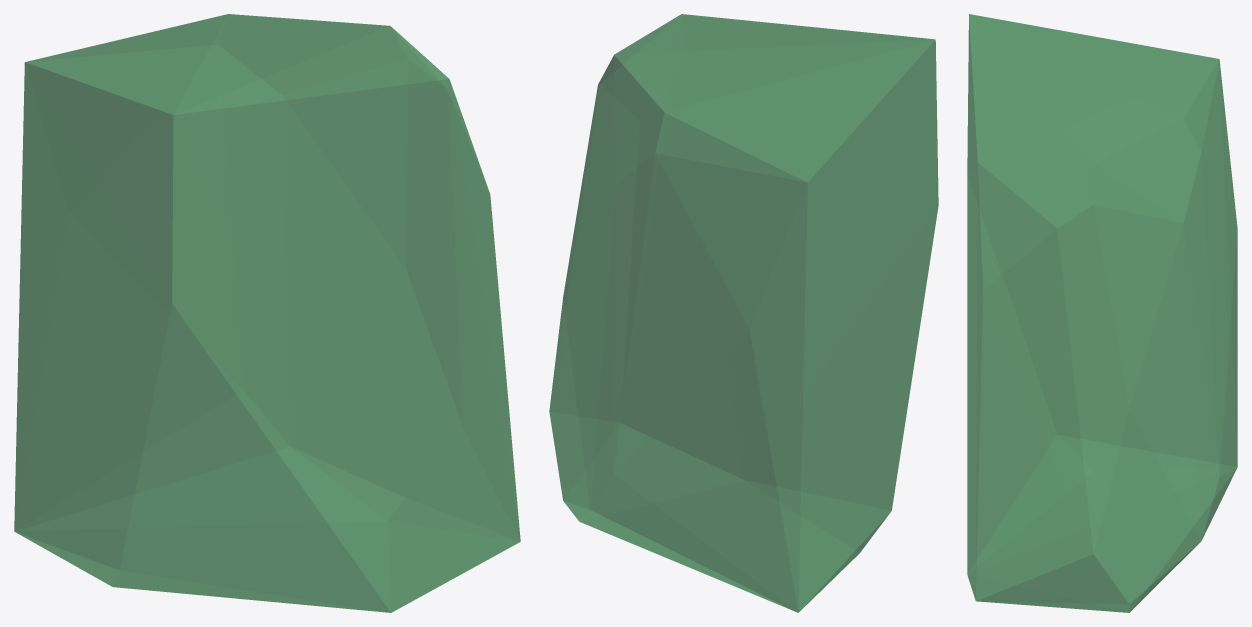
3 renders of one model, left to right at view 1: azimuth 30°, elevation 25°; view 2: azimuth 150°, elevation 25°; view 3: azimuth 270°, elevation 25°, orthographic. The views are drawn at different scales.
Parts seen in each view (by area): view 1: Shape_IndexedFaceSet.008_Shape_IndexedFaceSet.17692; view 2: Shape_IndexedFaceSet.008_Shape_IndexedFaceSet.17692; view 3: Shape_IndexedFaceSet.008_Shape_IndexedFaceSet.17692.
Boxes of the visible parts, bbox=[...] form: Shape_IndexedFaceSet.008_Shape_IndexedFaceSet.17692: bbox=[14, 14, 520, 612]; Shape_IndexedFaceSet.008_Shape_IndexedFaceSet.17692: bbox=[549, 14, 938, 612]; Shape_IndexedFaceSet.008_Shape_IndexedFaceSet.17692: bbox=[967, 14, 1237, 612].
Size of the model in its own units: 0.0522 by 0.0751 by 0.0391.
